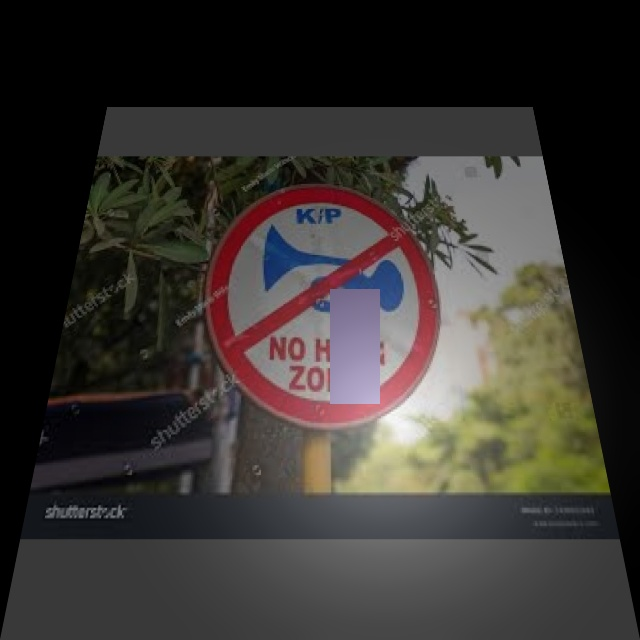Horn_Prohibited: (201, 185, 445, 420)
